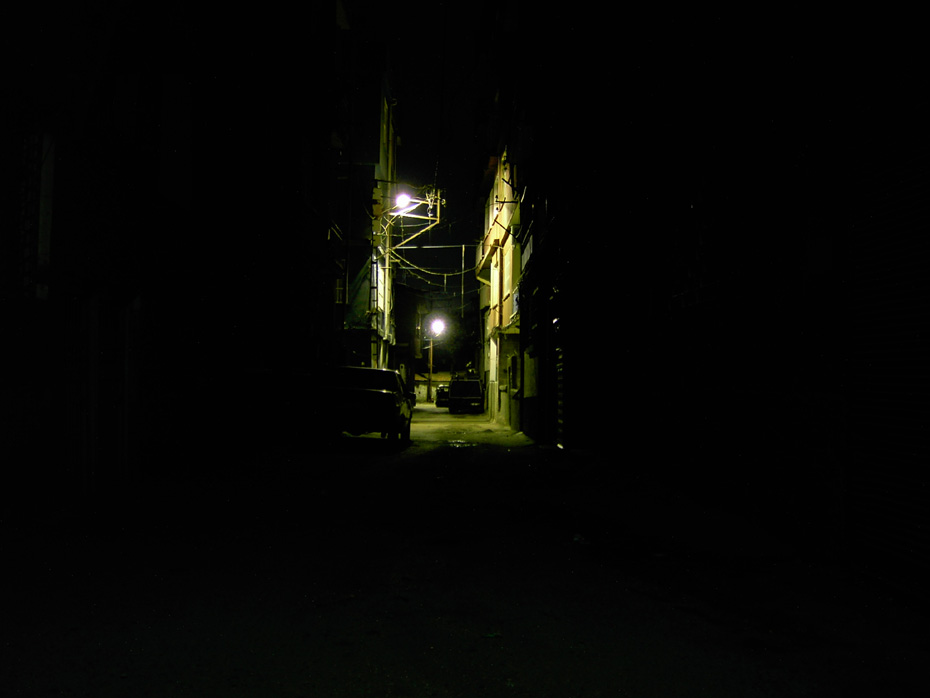car: (310, 347, 422, 457)
